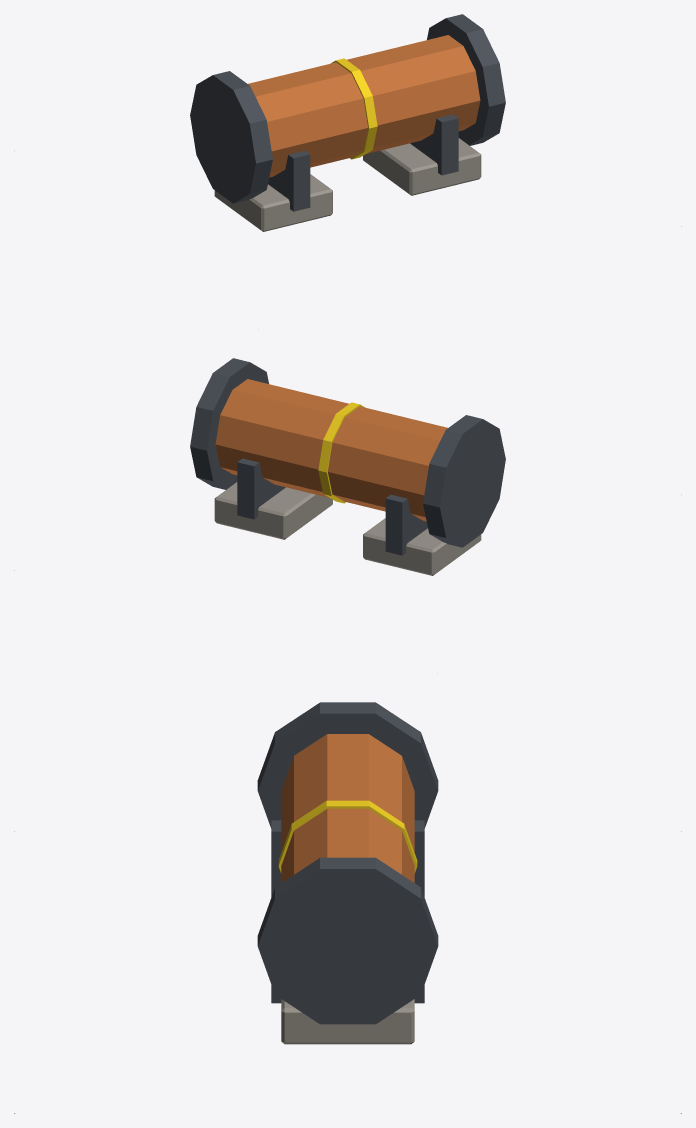
Rendered from tuyau_seul_t1.glb.
The picture shows the model from 3 angles, top to bottom: view 1: azimuth 30°, elevation 25°; view 2: azimuth 150°, elevation 25°; view 3: azimuth 270°, elevation 25°; orthographic projection. The views are drawn at different scales.
Parts seen in each view (by area): view 1: pieces_cuivre.016, pieces_acier_sombre.044, pieces_beton.044, pieces_rive_t1.014; view 2: pieces_cuivre.016, pieces_acier_sombre.044, pieces_beton.044, pieces_rive_t1.014; view 3: pieces_acier_sombre.044, pieces_cuivre.016, pieces_beton.044, pieces_rive_t1.014.
Boxes of the visible parts, box(x1,y1,x2,y2) form: pieces_cuivre.016: box(248, 35, 480, 177); pieces_acier_sombre.044: box(190, 14, 505, 211); pieces_beton.044: box(214, 138, 481, 231); pieces_rive_t1.014: box(331, 58, 377, 159); pieces_cuivre.016: box(215, 379, 447, 521); pieces_acier_sombre.044: box(190, 358, 505, 555); pieces_beton.044: box(214, 482, 481, 575); pieces_rive_t1.014: box(318, 402, 364, 503); pieces_acier_sombre.044: box(257, 702, 438, 1024); pieces_cuivre.016: box(281, 734, 414, 882); pieces_beton.044: box(281, 999, 414, 1044); pieces_rive_t1.014: box(278, 800, 417, 873).
Bounding box in the file's own units: 1 × 0.3084 × 1.
